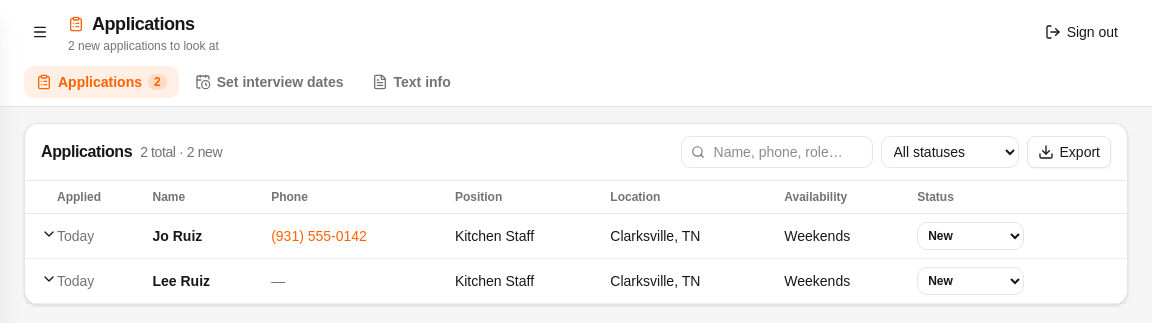
Test: the applications sheet › searches on a phone number as readily as a name
Type "5550142" into the search field named "Search applications" at (776, 152), box x1=680 y1=136 x2=872 y2=168
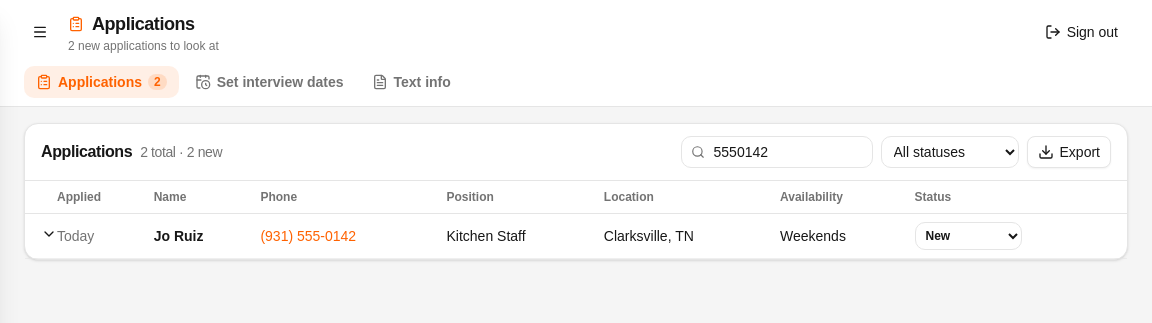
Expected: the text "Jo Ruiz" is shown, x1=154 y1=214 x2=260 y2=258
Expected: the text "Lee Ruiz" is gone
